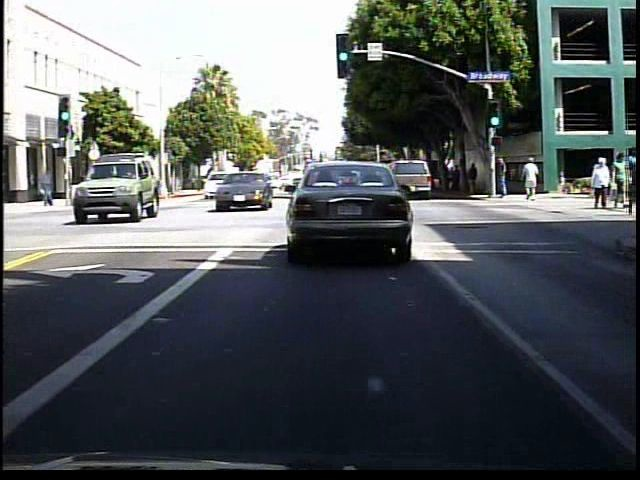person: (586, 158, 613, 211), (520, 156, 542, 205), (493, 153, 513, 205), (41, 165, 61, 208), (469, 161, 483, 194), (454, 164, 467, 196)
